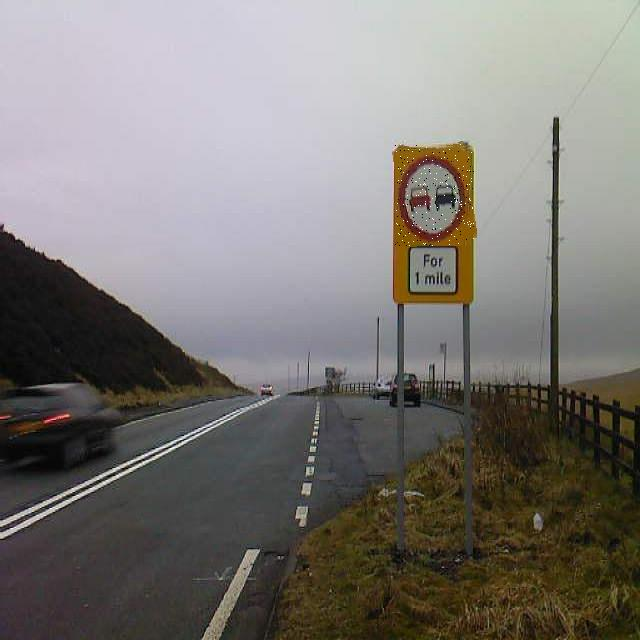no overtaking: (395, 144, 474, 246)
